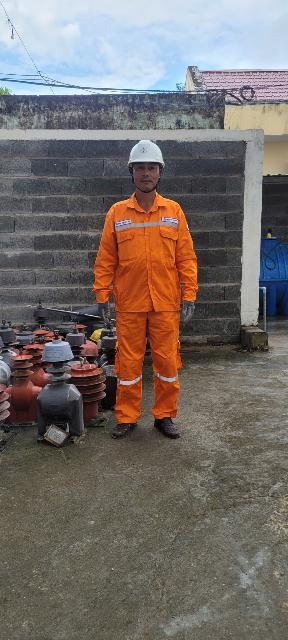gloves: (93, 293, 120, 330), (178, 291, 204, 325)
helmet: (118, 132, 167, 169)
shoes: (104, 407, 140, 448), (149, 408, 190, 443)
